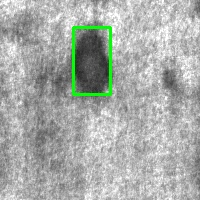patches: (73, 27, 110, 94)
